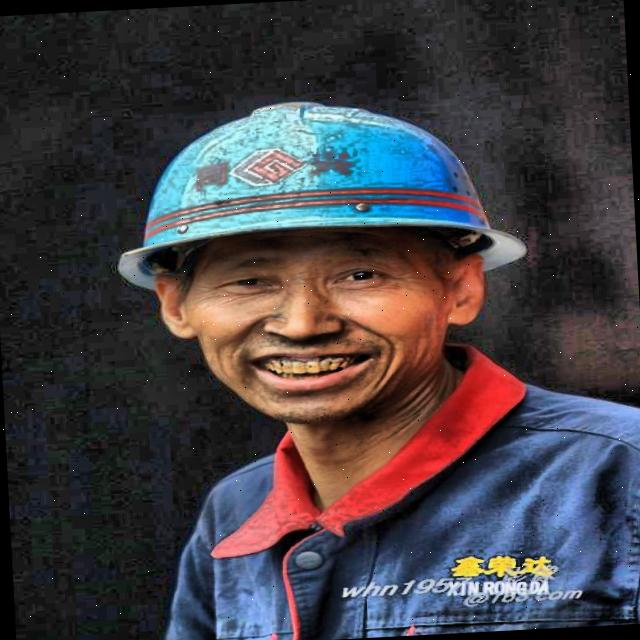helmet: (78, 84, 562, 462)
